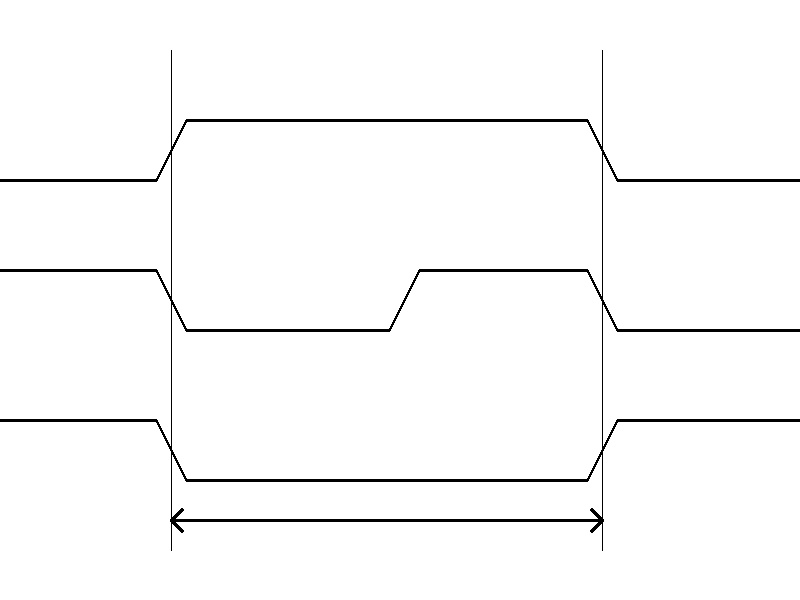double_arrow: (171, 505, 602, 535)
